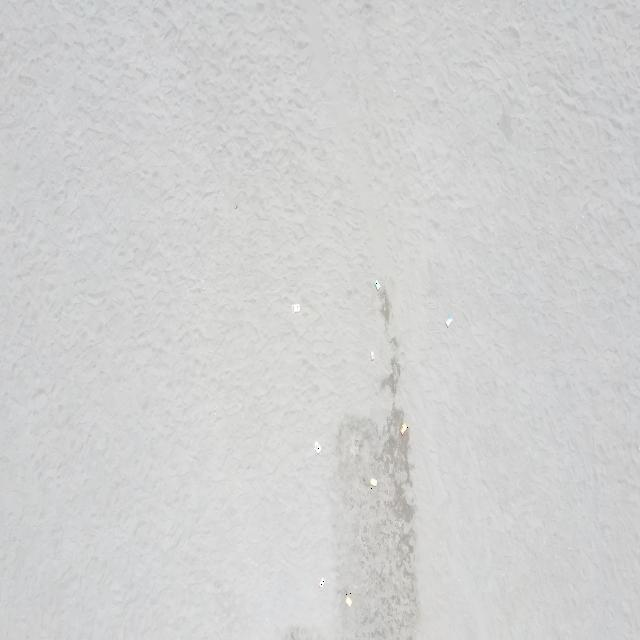Garbage: (344, 592, 352, 606), (444, 316, 452, 327), (313, 441, 320, 452), (400, 422, 407, 433), (369, 477, 376, 487), (292, 303, 299, 312), (373, 280, 380, 289), (319, 577, 324, 587), (369, 351, 372, 360)
